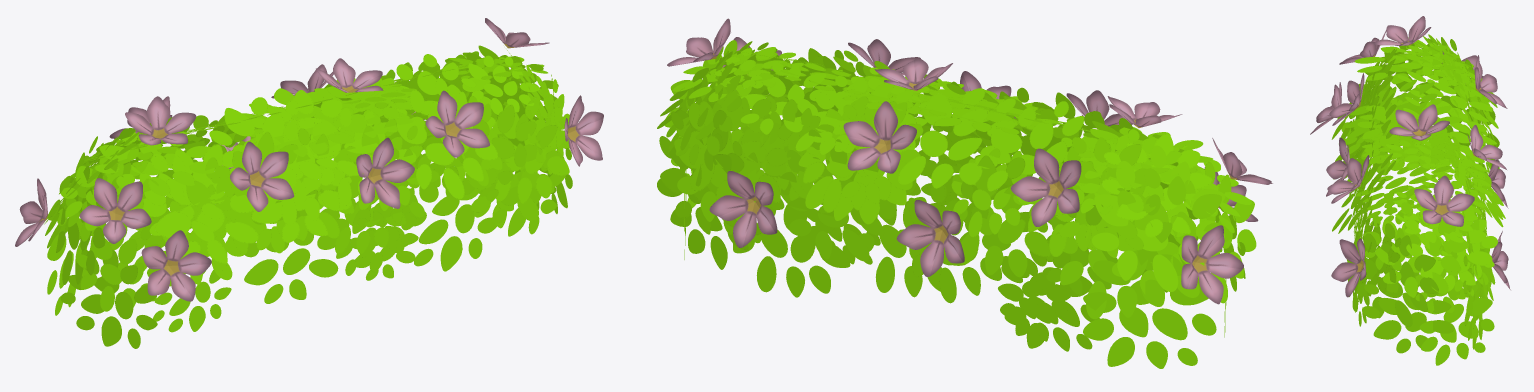
File: Bush_Small_Flowers.glb
3 renders of one model, left to right at view 1: azimuth 30°, elevation 25°; view 2: azimuth 150°, elevation 25°; view 3: azimuth 270°, elevation 25°, orthographic. The views are drawn at different scales.
Size of the model in its own units: 1.93 by 0.8168 by 0.7618.
2 materials, 2 textured.
